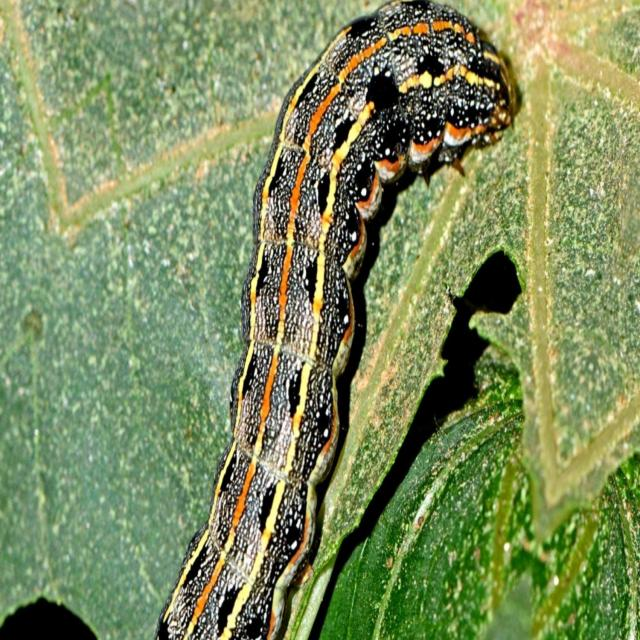Armyworm: (139, 1, 497, 640)
